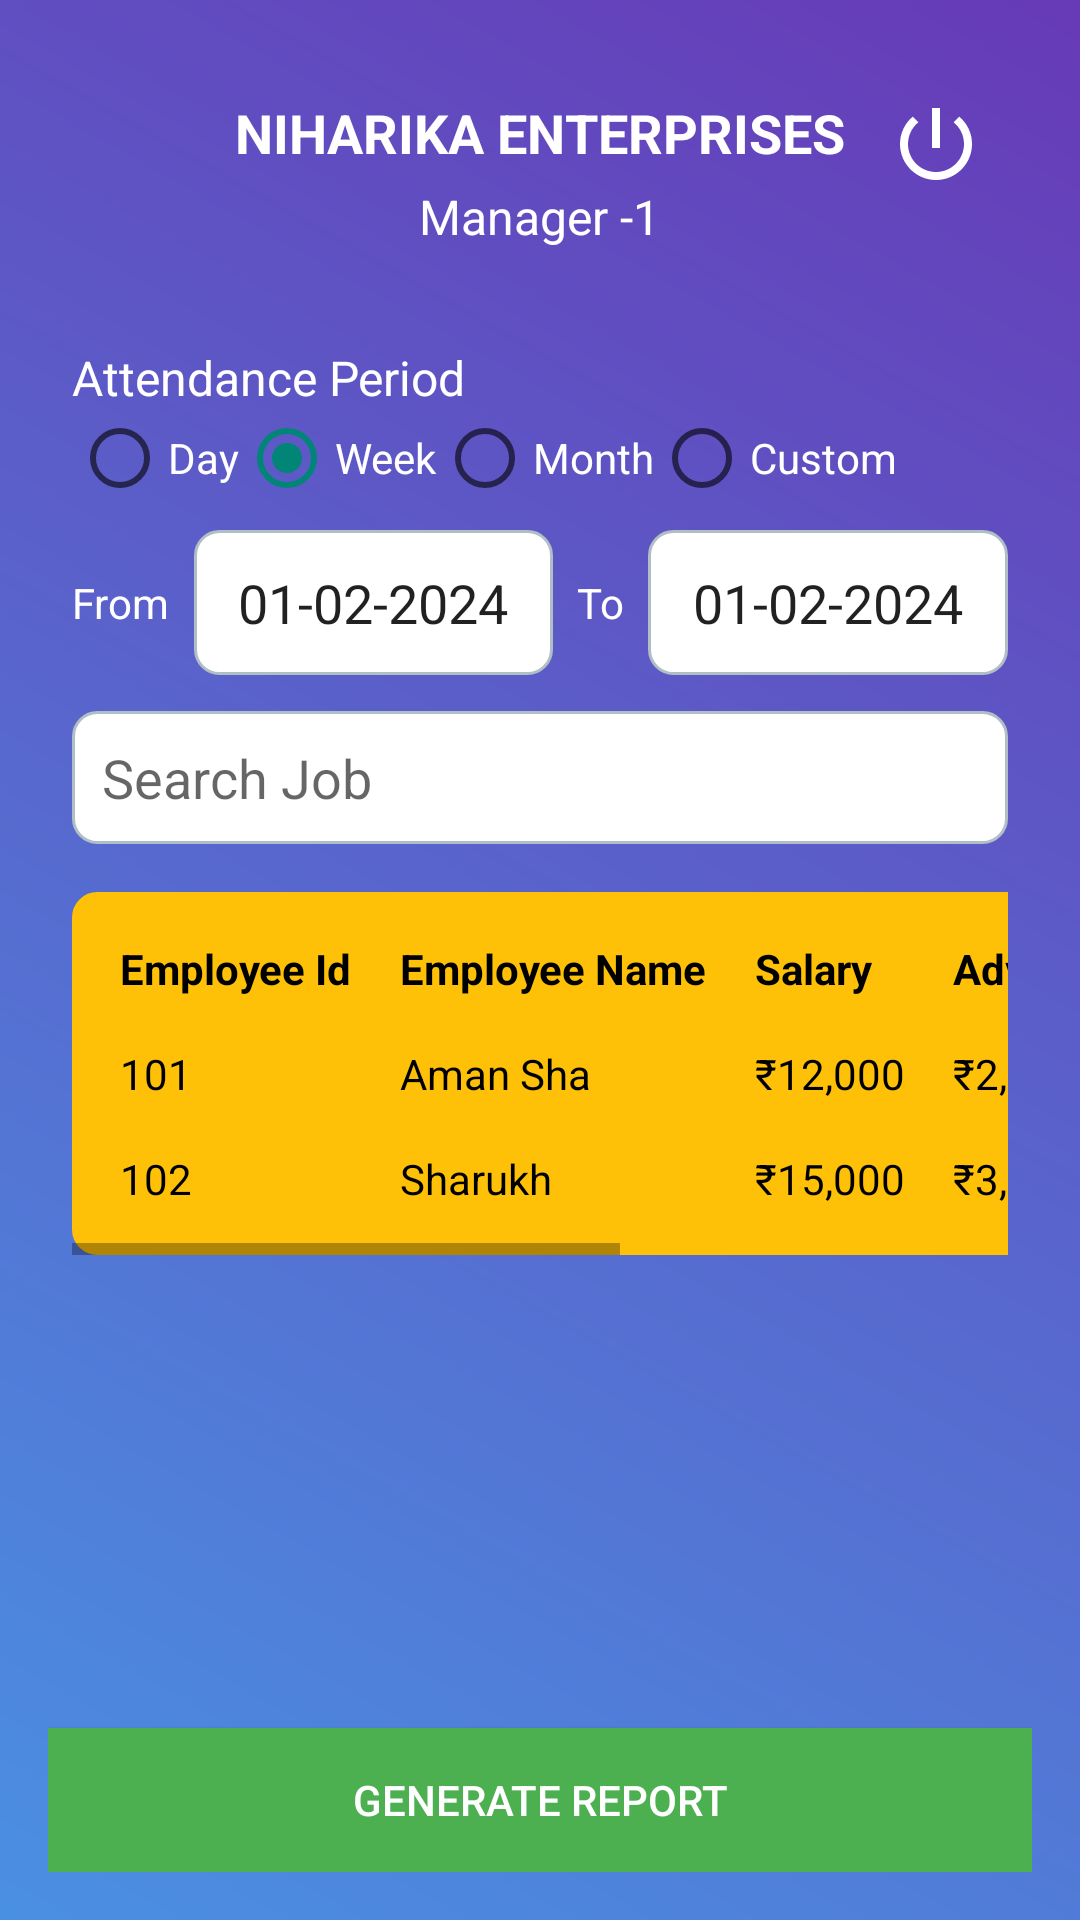

Icon click points for this 1080px×1920px phone screenshot, format (x=x, y=y):
power: (x=936, y=144)
